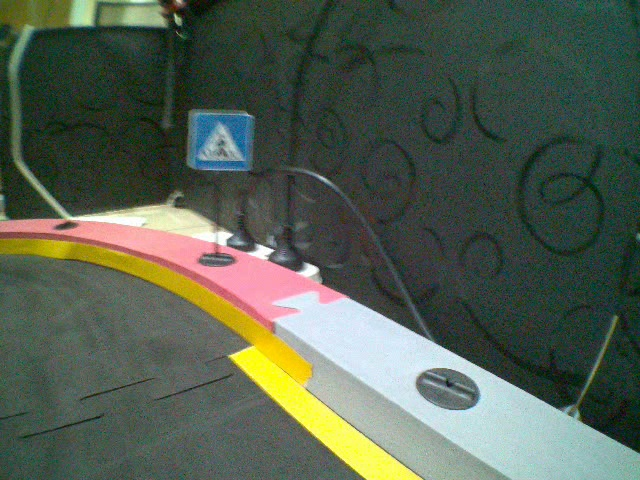crossing: (186, 109, 253, 171)
